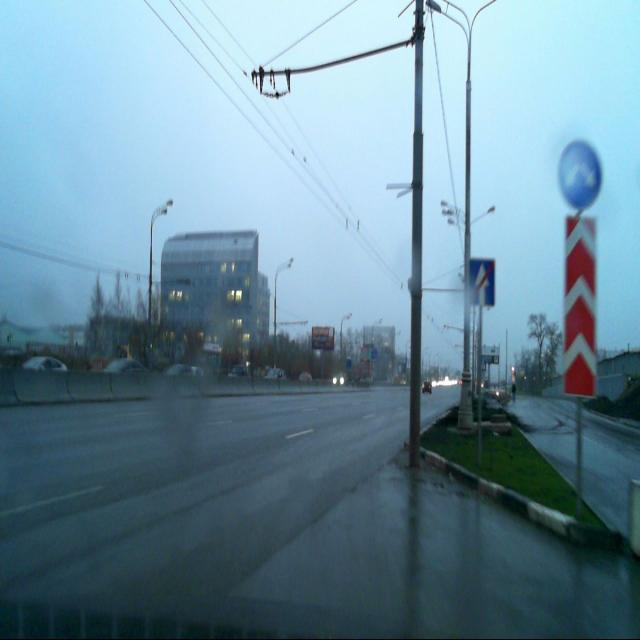object: (562, 218, 600, 400), (477, 307, 482, 469)
road sign: (468, 260, 495, 305)
